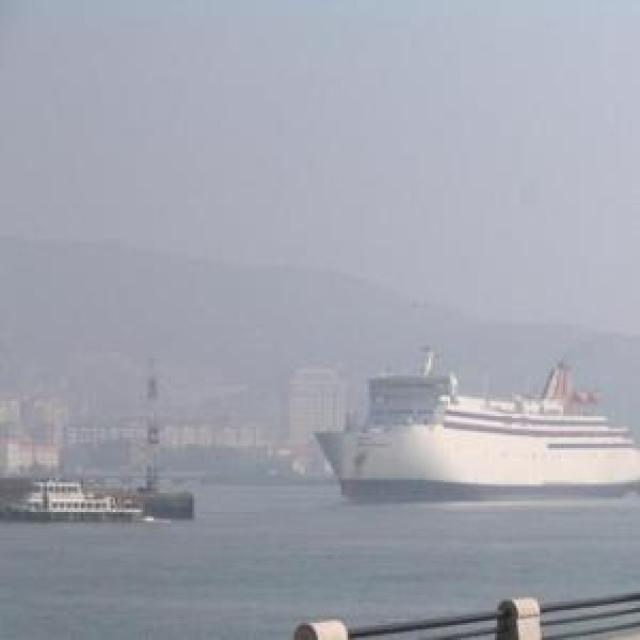passenger ship: (317, 369, 640, 506), (4, 481, 143, 523)
